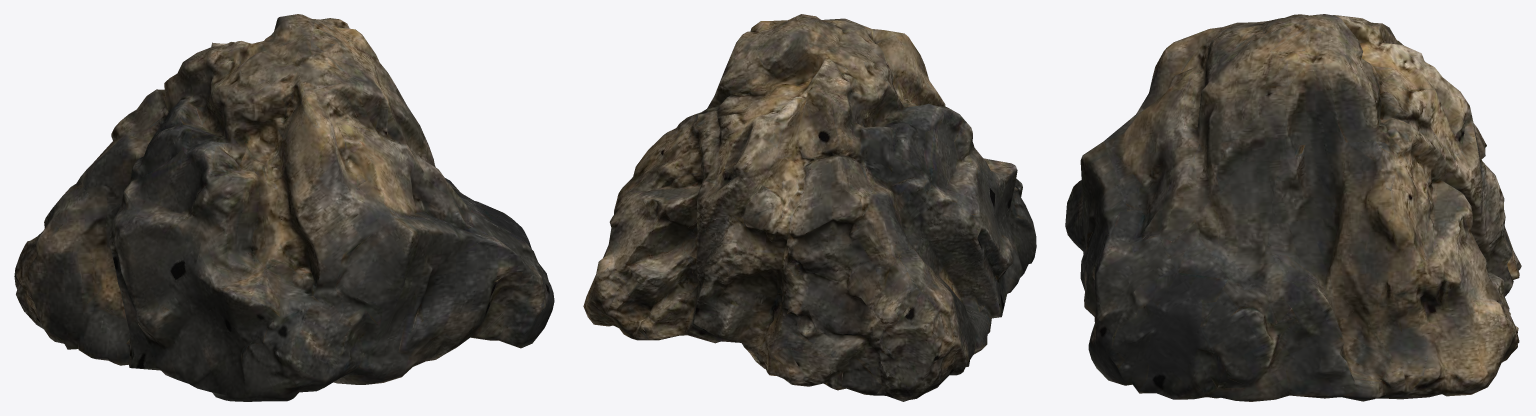
The model's file is rock-accent-02.glb.
3 views of the same model, side by side, from view 1: azimuth 30°, elevation 25°; view 2: azimuth 150°, elevation 25°; view 3: azimuth 270°, elevation 25° (orthographic). The views are drawn at different scales.
Visible parts, largest first — view 1: Meshy_Mesh1.0; view 2: Meshy_Mesh1.0; view 3: Meshy_Mesh1.0.
Boxes of the visible parts, <box> form: Meshy_Mesh1.0: <box>14,14,554,401</box>; Meshy_Mesh1.0: <box>583,14,1036,401</box>; Meshy_Mesh1.0: <box>1065,14,1521,401</box>.
Bounding box in the file's own units: 1.91 × 1.36 × 1.81.
1 material, 1 textured.
